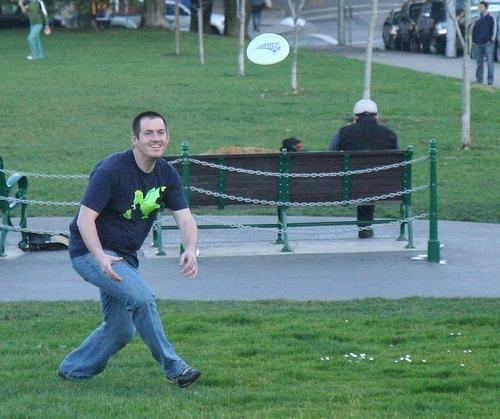car: (103, 2, 226, 36), (408, 0, 447, 54), (397, 3, 420, 52), (382, 8, 402, 51)
